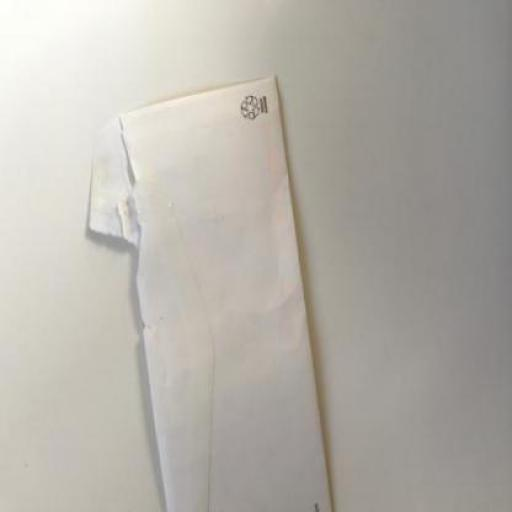paper: (86, 76, 332, 511)
